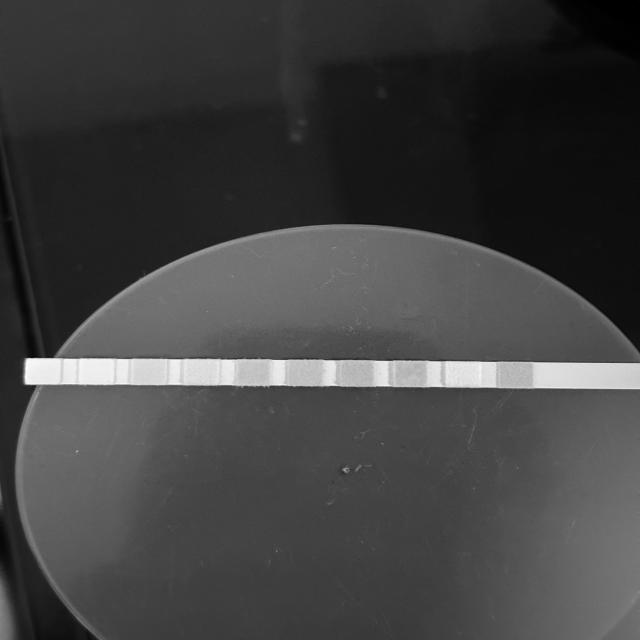Bilirubin: (447, 362, 479, 388)
Blood: (291, 360, 321, 385)
Glucose: (499, 362, 533, 388)
Ketone: (396, 362, 426, 386)
Leukocytes: (26, 359, 59, 384)
Nitrite: (80, 360, 114, 384)
Protein: (186, 359, 217, 385)
SpGravity: (342, 361, 373, 386)
Urobilinogen: (135, 360, 165, 384)
background: (0, 0, 640, 640)
pH: (238, 360, 270, 384)
strip: (25, 358, 631, 389)
